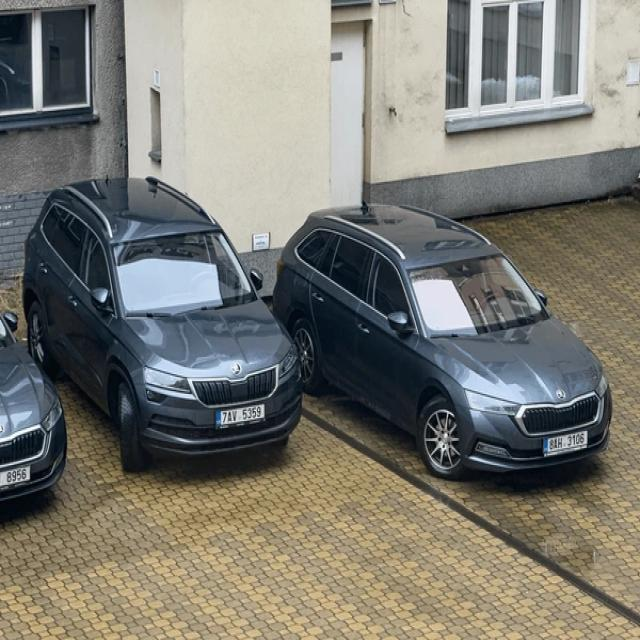skoda: (225, 360, 245, 376), (551, 385, 568, 402)
